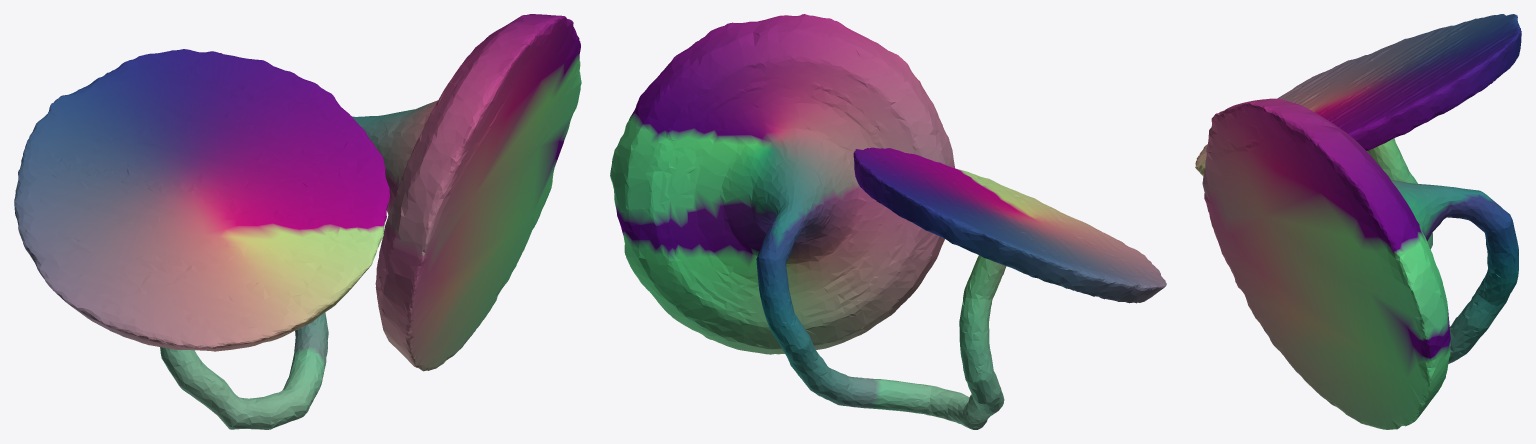
File: lamp-17.off.obj
The picture shows the model from 3 angles, left to right: view 1: azimuth 30°, elevation 25°; view 2: azimuth 150°, elevation 25°; view 3: azimuth 270°, elevation 25°; orthographic projection. The views are drawn at different scales.
Bounding box in the file's own units: 1.75 × 1.07 × 0.9051.
